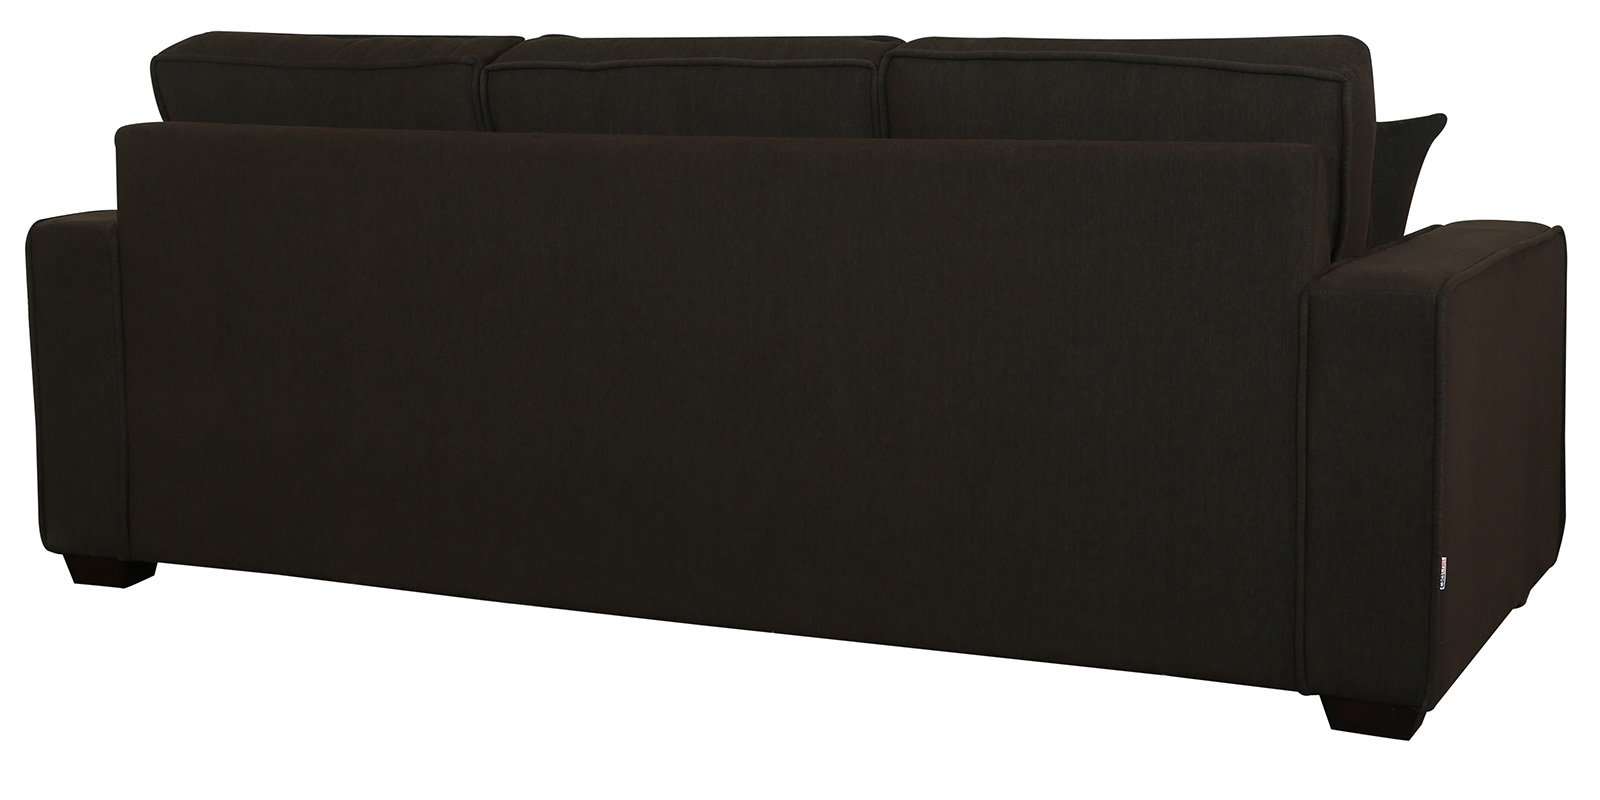Hugo Three Seater Sofa in Chestnut Brown Colour by CasaCraft: (21, 18, 1590, 766)
